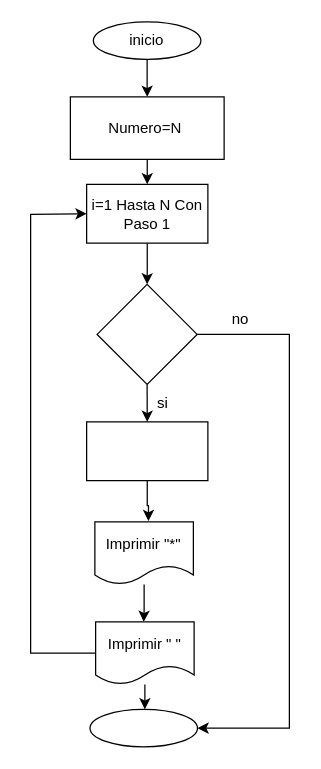
Some shapes in this 321 by 769 pixel diagram are drawn without their labels. The centre of each missing label's shape, as x and y in pixels:
"fin" goes at (143,727).
"i≤N?" goes at (146,333).
"j <= i; j++" goes at (146,451).
